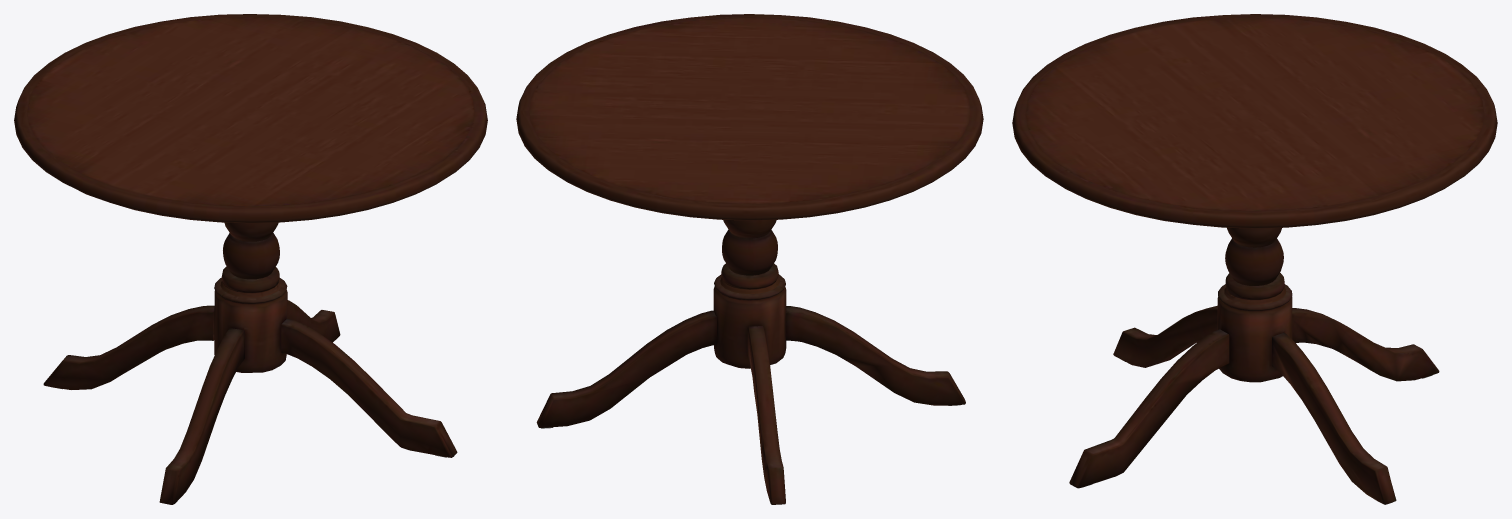
File: round_wooden_table_01.glb
3 renders of one model, left to right at view 1: azimuth 30°, elevation 25°; view 2: azimuth 150°, elevation 25°; view 3: azimuth 270°, elevation 25°, orthographic. The views are drawn at different scales.
Parts seen in each view (by area): view 1: round_wooden_table_01; view 2: round_wooden_table_01; view 3: round_wooden_table_01.
Boxes of the visible parts, left/top/right/bottom form: round_wooden_table_01: left=14, top=14, right=487, bottom=504; round_wooden_table_01: left=516, top=14, right=983, bottom=504; round_wooden_table_01: left=1012, top=14, right=1497, bottom=504.
Bounding box in the file's own units: 1.4 × 1 × 1.4.
Materials: 1 (1 with a texture image).
